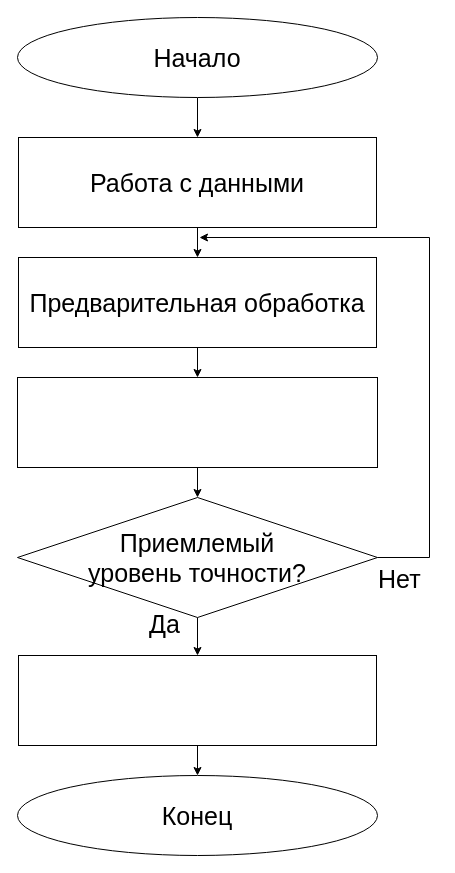
This 455x873 diagram has some shape labels left out. Each missing label, with the centre of its shape:
Использование и диагностика: (x=197, y=700)
Конструирование, обучение и оценка качества сети: (x=197, y=422)
